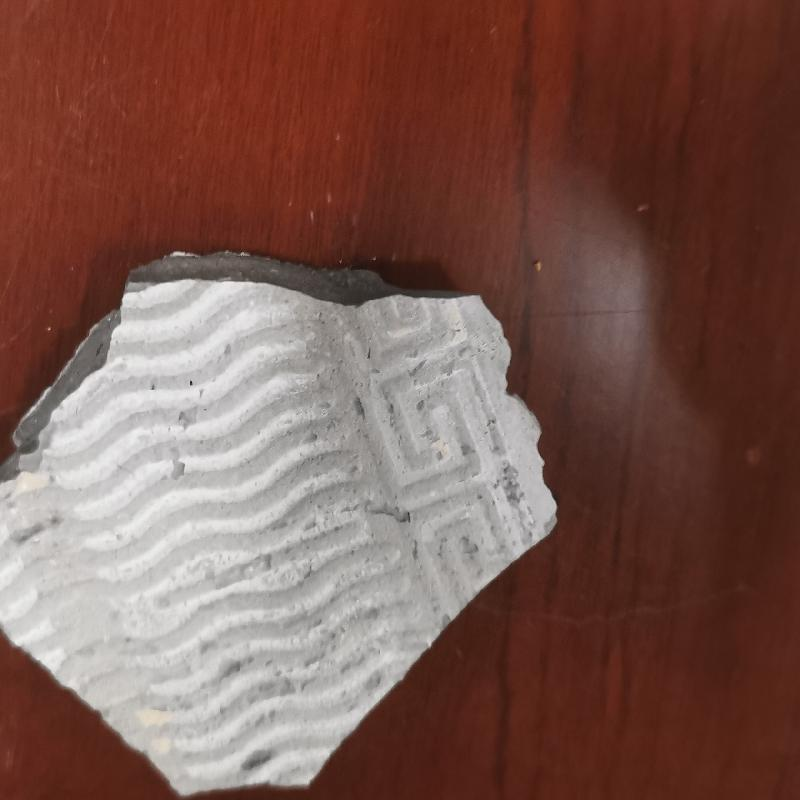tile: (6, 244, 562, 800)
